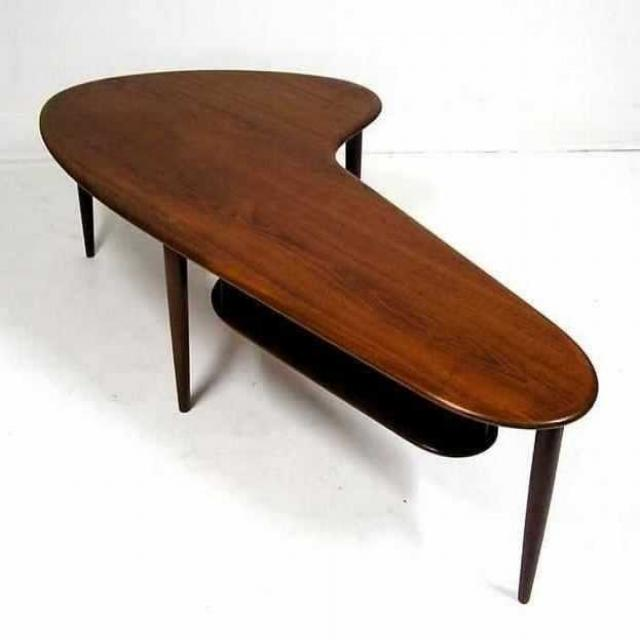table: (24, 42, 615, 611)
